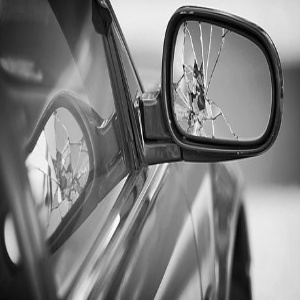side_mirror: (142, 7, 289, 169)
